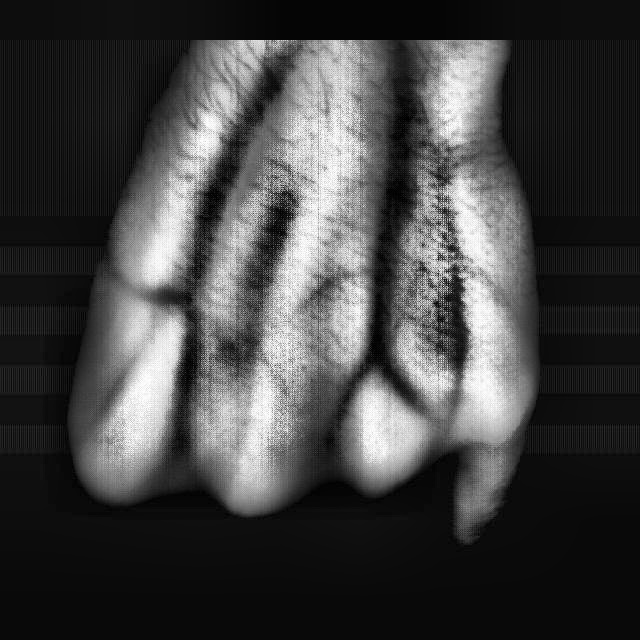Vein: (174, 69, 291, 274), (363, 110, 419, 329)
